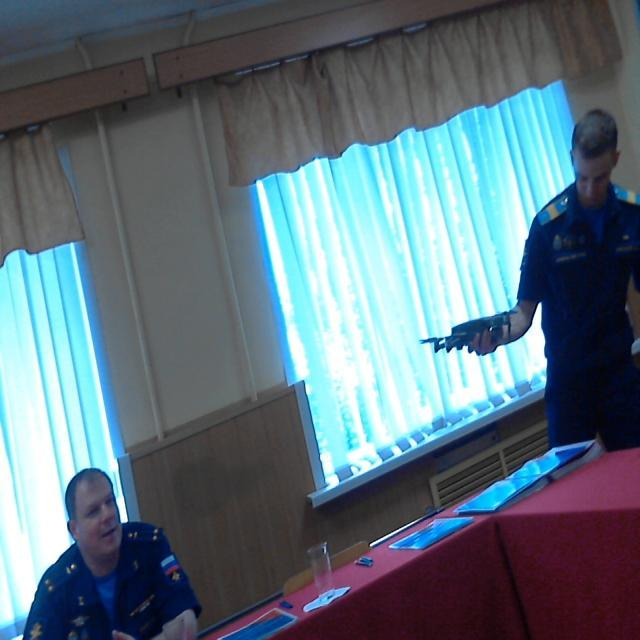drones: (414, 303, 520, 365)
